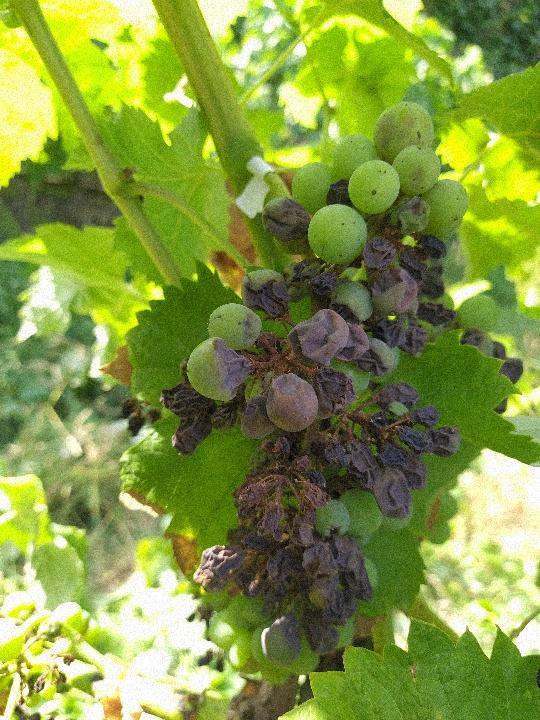grape: (155, 98, 526, 690)
